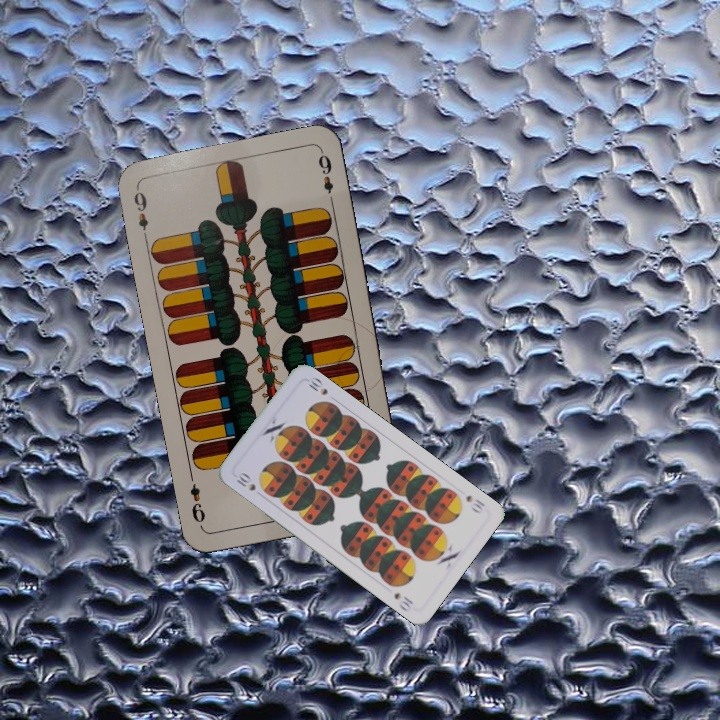E9: (129, 184, 151, 243)
S10: (462, 491, 488, 516), (232, 470, 258, 494)
